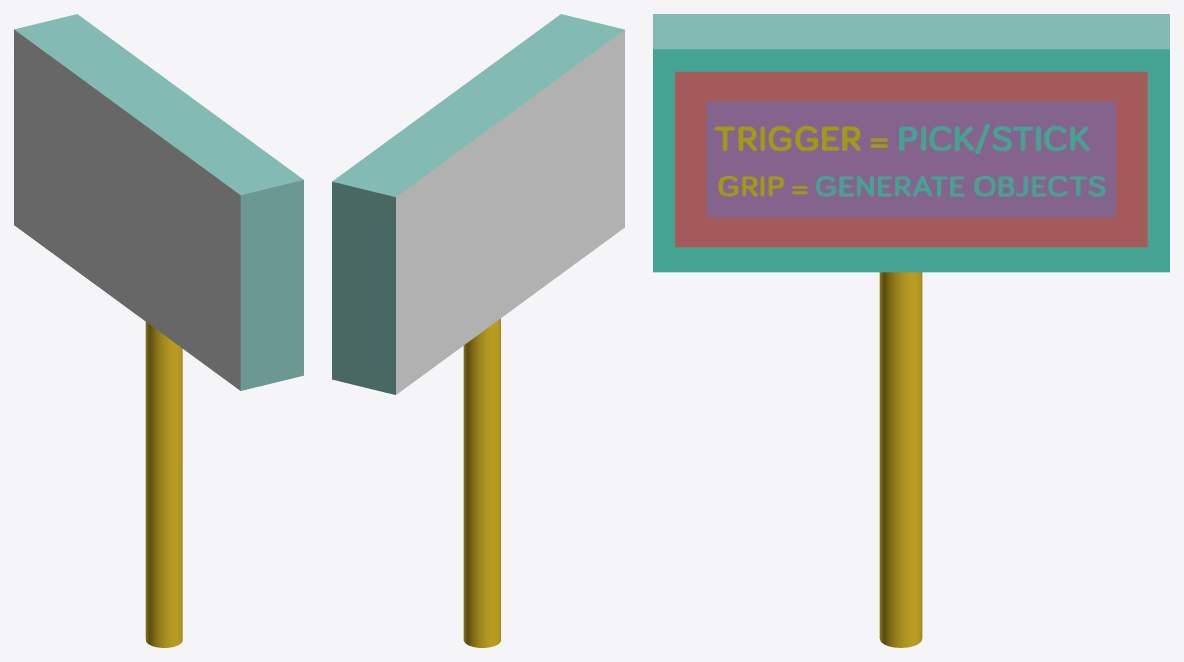
The model's file is instructions.dae.
The picture shows the model from 3 angles, left to right: view 1: azimuth 30°, elevation 25°; view 2: azimuth 150°, elevation 25°; view 3: azimuth 270°, elevation 25°; orthographic projection. The views are drawn at different scales.
Parts seen in each view (by area): view 1: instance_1 (×2), instance_0; view 2: instance_1 (×2), instance_0; view 3: instance_1 (×2), instance_0.
Boxes of the visible parts, x1,y1,x2,y2 form: instance_1 (×2): (14, 14, 303, 390); instance_0: (145, 322, 182, 647); instance_1 (×2): (332, 14, 624, 394); instance_0: (463, 318, 500, 647); instance_1 (×2): (653, 14, 1169, 272); instance_0: (879, 272, 922, 647).
Bounding box in the file's own units: 21.12 × 131 × 170.
4 materials, 1 textured.
